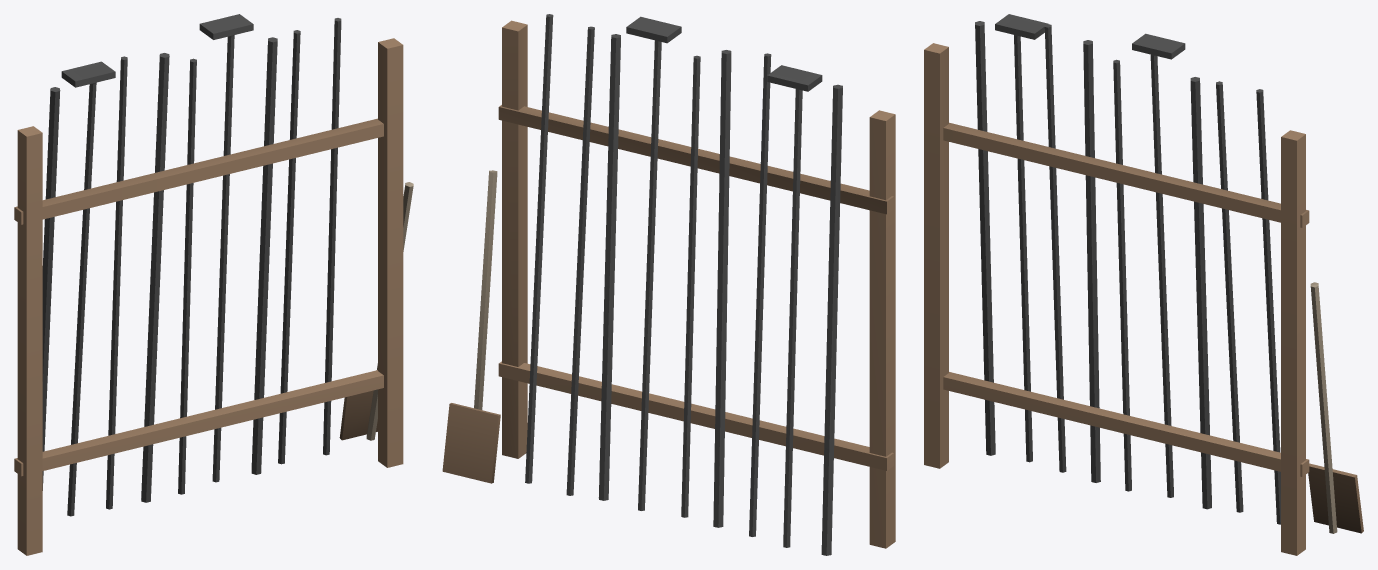
File: bar_rack.glb
The picture shows the model from 3 angles, left to right: view 1: azimuth 30°, elevation 25°; view 2: azimuth 150°, elevation 25°; view 3: azimuth 330°, elevation 25°; orthographic projection. The views are drawn at different scales.
Visible parts, largest first — view 1: static; view 2: static; view 3: static.
Boxes of the visible parts, x1=… form: static: x1=14, y1=14, x2=413, y2=555; static: x1=442, y1=14, x2=895, y2=555; static: x1=924, y1=14, x2=1363, y2=555.
Size of the model in its own units: 2.02 by 2.22 by 0.3596.
